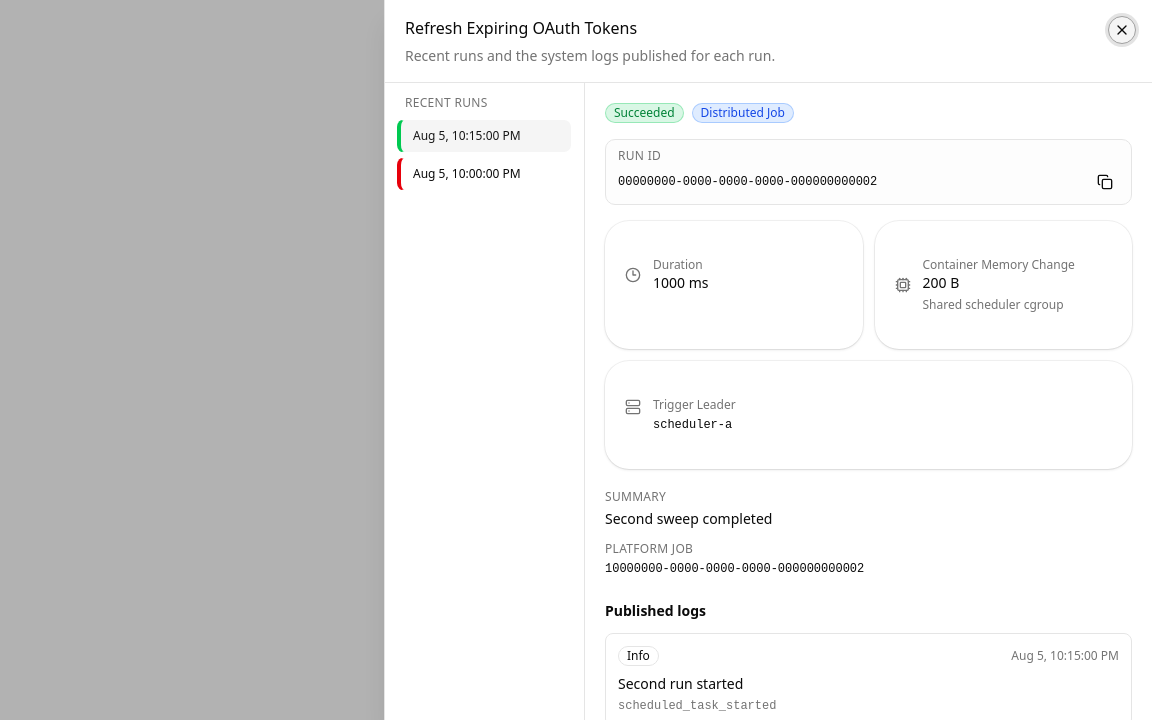
SchedulerRunDrawer › filters published logs by the selected recent run
expect the text "First run log" is not shown: met
expect the text "00000000-0000-0000-0000-000000000002" is shown: met, box [618,175,877,189]
Click the button named "Copy run ID": (1105, 182) [1091,168,1119,196]
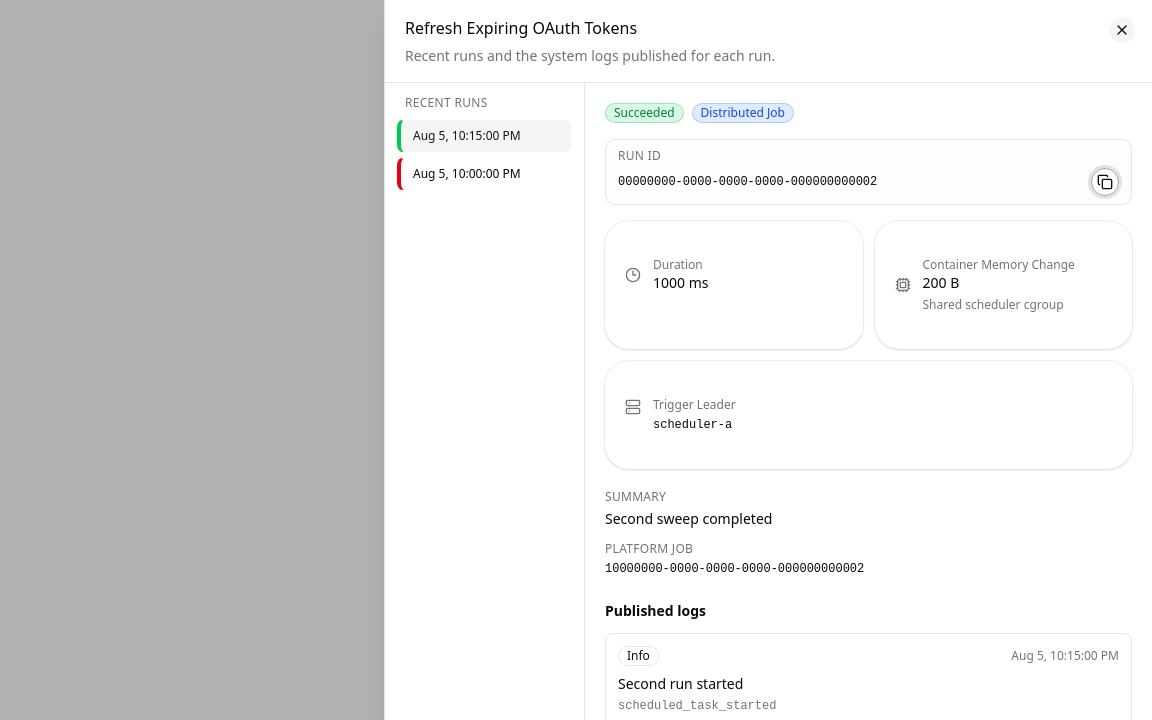
Click the button with aria-label "00000000-0000-0000-0000-000000000001": (484, 174) [397,157,572,191]
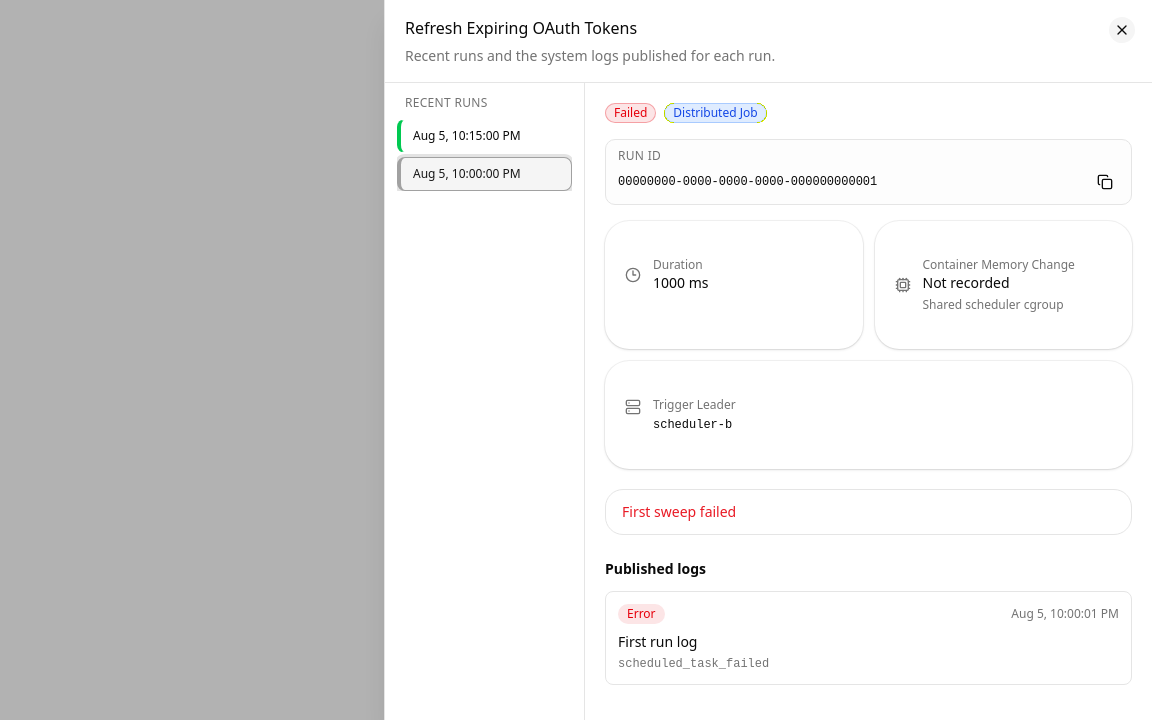
expect the text "First run log" is shown: met, box [618,632,698,651]
expect the text "First sweep failed" is shown: met, box [622,502,736,521]
expect the text "00000000-0000-0000-0000-000000000001" is shown: met, box [618,175,877,189]
